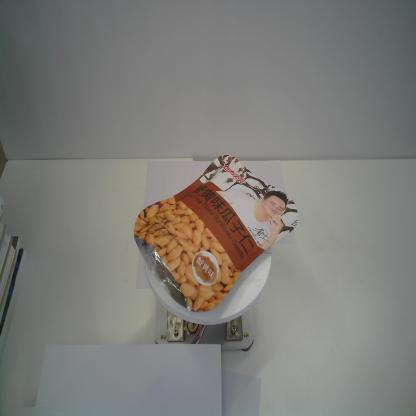Dried Fruit: (133, 154, 299, 313)
